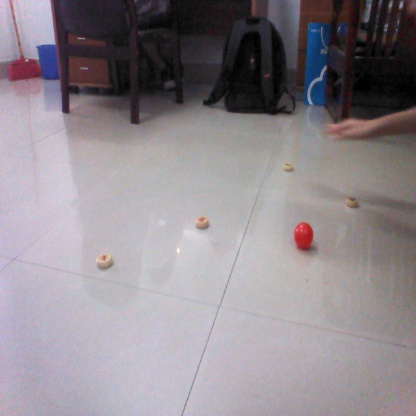ball: (291, 222, 315, 249)
chess: (94, 252, 117, 272), (190, 214, 214, 230), (281, 160, 297, 173), (344, 196, 358, 209)
